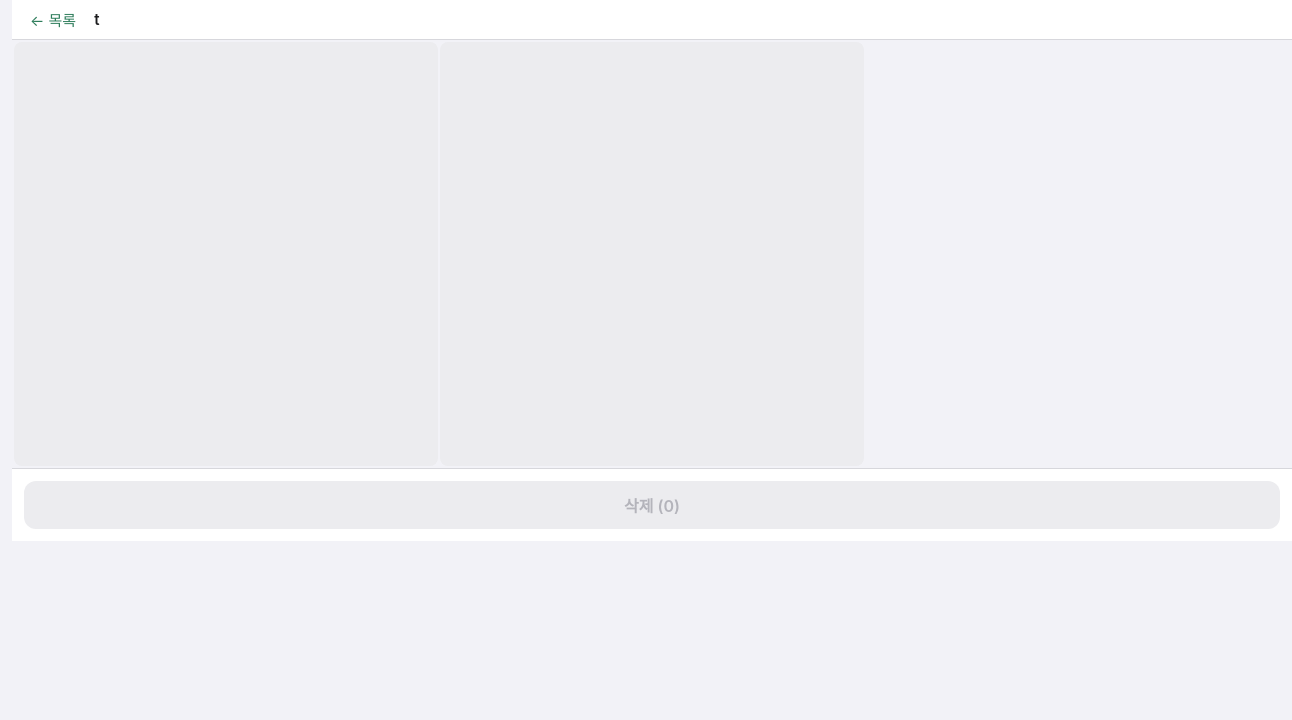
Test case: PhotoSelectScreen › 다시 클릭 → 토글 오프 → "삭제 (0)" 복귀 + 비활성
This screenshot has width=1292, height=720.
Click the button named "사진 선택 a".
click(226, 254)  # box [14, 42, 438, 466]
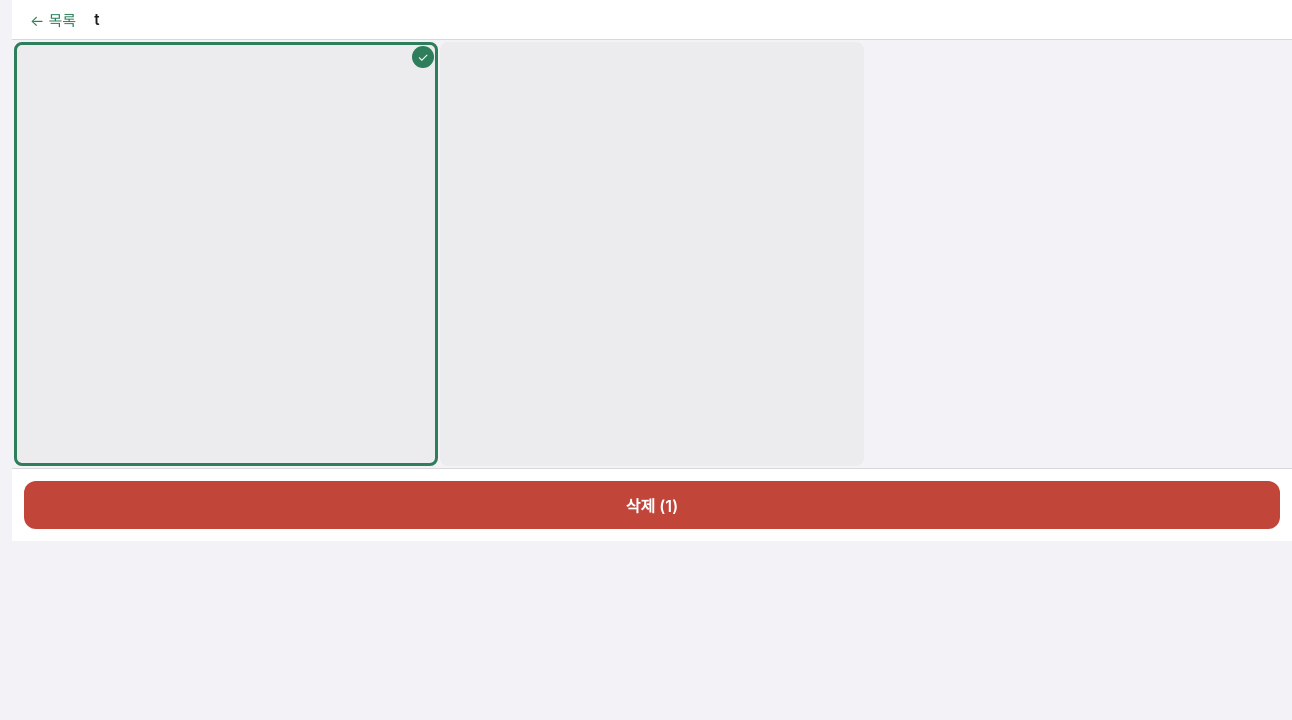
Click the button named "사진 선택 a".
click(226, 254)  # box [14, 42, 438, 466]
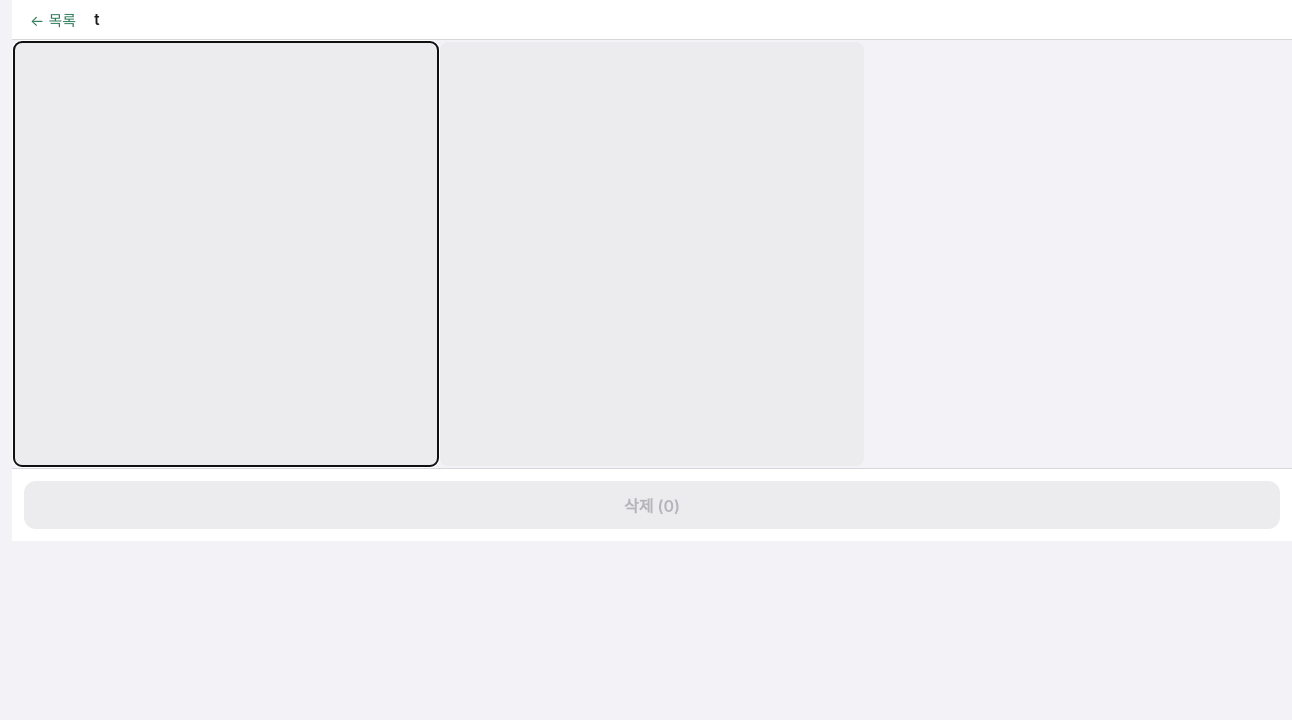
Result: the button "삭제 (0)" is disabled at [24, 481, 1280, 529]
